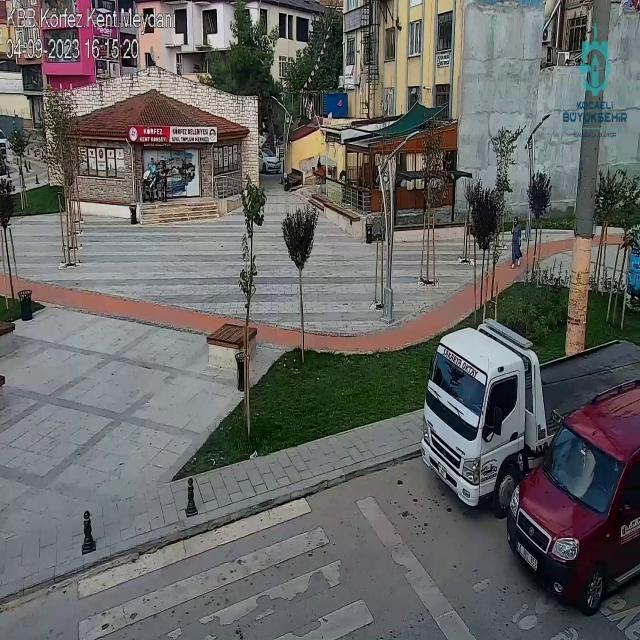Truck: (418, 325, 640, 496)
Van: (498, 395, 640, 606)
